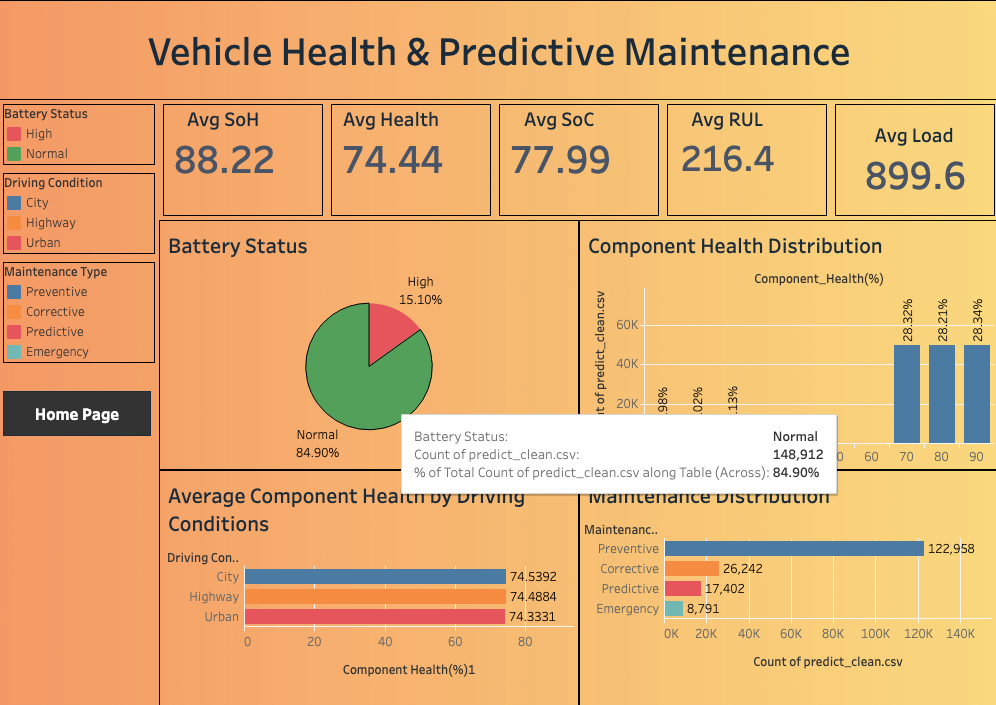

The page's visual inventory and layout, read from the dashboard file:
{"tool":"tableau","page":{"name":"Page 2","canvas":[1000,800],"ordinal":2},"visuals":[{"type":"image","param":"/Users/masalapav/Downloads/Untitled design.png","box":[0,0,1000,800]},{"type":"text","box":[0,0,1000,100]},{"type":"legend","title":"Pie","param":"[federated.1gfbift0hacrqx164vdo81028kac].[none:Battery_Status:nk]","box":[0,100,160,68]},{"type":"worksheet","title":"SOH Average","mark":"Automatic","box":[160,100,168,120]},{"type":"worksheet","title":"Average Battery Health","mark":"Automatic","box":[328,100,168,120]},{"type":"worksheet","title":"Average SoC","mark":"Automatic","box":[496,100,168,120]},{"type":"worksheet","title":"Average RUL","mark":"Automatic","box":[664,100,168,120]},{"type":"worksheet","title":"Average fail prbability","mark":"Automatic","box":[832,100,168,120]},{"type":"legend","title":"Bar","param":"[federated.1gfbift0hacrqx164vdo81028kac].[none:Driving_Condition:nk]","box":[0,168,160,88]},{"type":"worksheet","title":"Pie","mark":"Pie","box":[161,221,418,248]},{"type":"worksheet","title":"Histogram","mark":"Automatic","rows":["predict_clean.csv_E861C5C2CE314E158A35AAE4BE83DAD2"],"cols":["Component Health(%)1 (bin)"],"box":[581,221,418,248]},{"type":"legend","title":"Maintainence distr","param":"[federated.1gfbift0hacrqx164vdo81028kac].[none:Maintenance_Type:ok]","box":[0,256,160,108]},{"type":"dashboard-object","box":[4,391,148,45]},{"type":"worksheet","title":"Bar","mark":"Automatic","rows":["Driving_Condition"],"cols":["component_health(%)"],"box":[161,471,418,238]},{"type":"worksheet","title":"Maintainence distr","mark":"Automatic","rows":["Maintenance_Type"],"cols":["predict_clean.csv_E861C5C2CE314E158A35AAE4BE83DAD2"],"box":[581,471,416,237]}]}

Visuals, with their boxes on the page's 1000x800 design canvas (x1, y1, x2, y2). These are canvas units, not pixel positions in the 996x705 screenshot, which may show the page scaled, cropped or inside an application window:
image: [x1=0, y1=0, x2=1000, y2=800]
text: [x1=0, y1=0, x2=1000, y2=100]
"Pie" legend: [x1=0, y1=100, x2=160, y2=168]
"SOH Average" worksheet: [x1=160, y1=100, x2=328, y2=220]
"Average Battery Health" worksheet: [x1=328, y1=100, x2=496, y2=220]
"Average SoC" worksheet: [x1=496, y1=100, x2=664, y2=220]
"Average RUL" worksheet: [x1=664, y1=100, x2=832, y2=220]
"Average fail prbability" worksheet: [x1=832, y1=100, x2=1000, y2=220]
"Bar" legend: [x1=0, y1=168, x2=160, y2=256]
"Pie" worksheet (Pie marks): [x1=161, y1=221, x2=579, y2=469]
"Histogram" worksheet: [x1=581, y1=221, x2=999, y2=469]
"Maintainence distr" legend: [x1=0, y1=256, x2=160, y2=364]
dashboard-object: [x1=4, y1=391, x2=152, y2=436]
"Bar" worksheet: [x1=161, y1=471, x2=579, y2=709]
"Maintainence distr" worksheet: [x1=581, y1=471, x2=997, y2=708]
